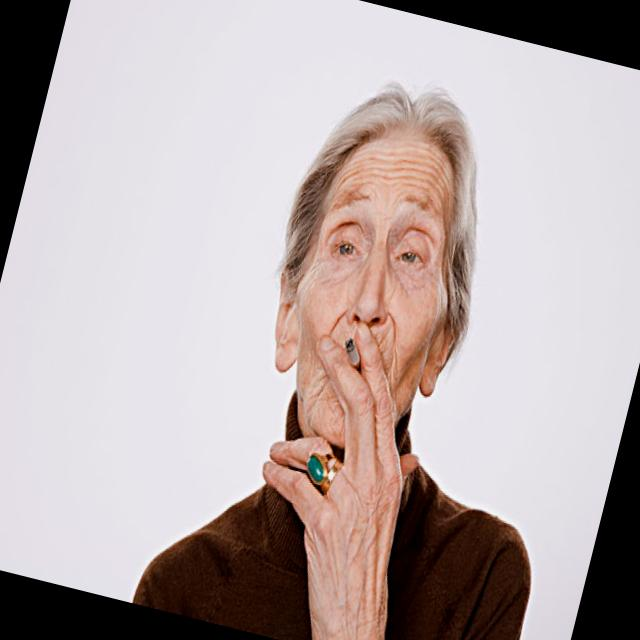smoke: (337, 333, 366, 372)
